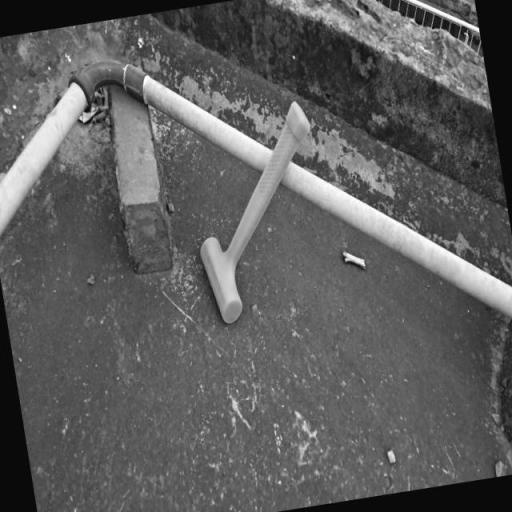mallet: (180, 98, 339, 326)
